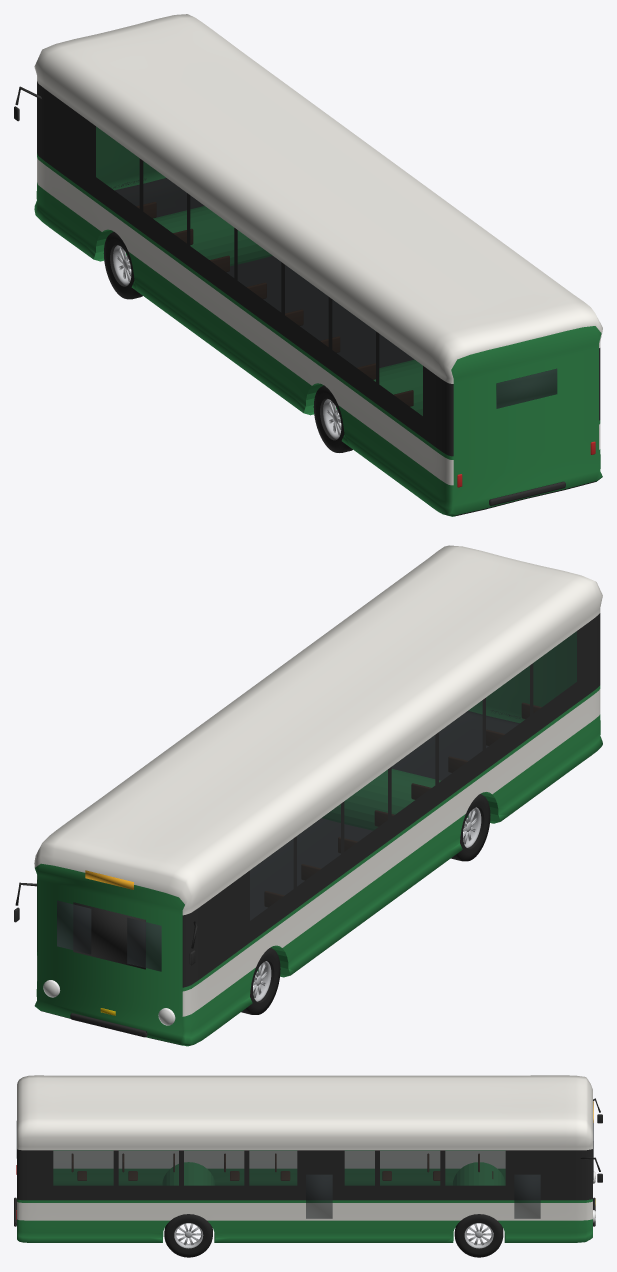
File: bus_1.glb
3 renders of one model, top to bottom at view 1: azimuth 30°, elevation 25°; view 2: azimuth 150°, elevation 25°; view 3: azimuth 270°, elevation 25°, orthographic. The views are drawn at different scales.
Visible parts, largest first — view 1: body, wheel_0, wheel_2; view 2: body, wheel_0, wheel_2; view 3: body, wheel_1, wheel_3.
Part boxes in pixels (left/top/right/bottom): body: left=14, top=14, right=602, bottom=516; wheel_0: left=103, top=232, right=142, bottom=299; wheel_2: left=313, top=385, right=352, bottom=452; body: left=14, top=545, right=602, bottom=1046; wheel_0: left=241, top=947, right=280, bottom=1014; wheel_2: left=451, top=794, right=490, bottom=861; body: left=14, top=1075, right=602, bottom=1242; wheel_1: left=454, top=1214, right=503, bottom=1257; wheel_3: left=164, top=1214, right=212, bottom=1257.
Size of the model in its own units: 2.94 by 3.1 by 12.17.
